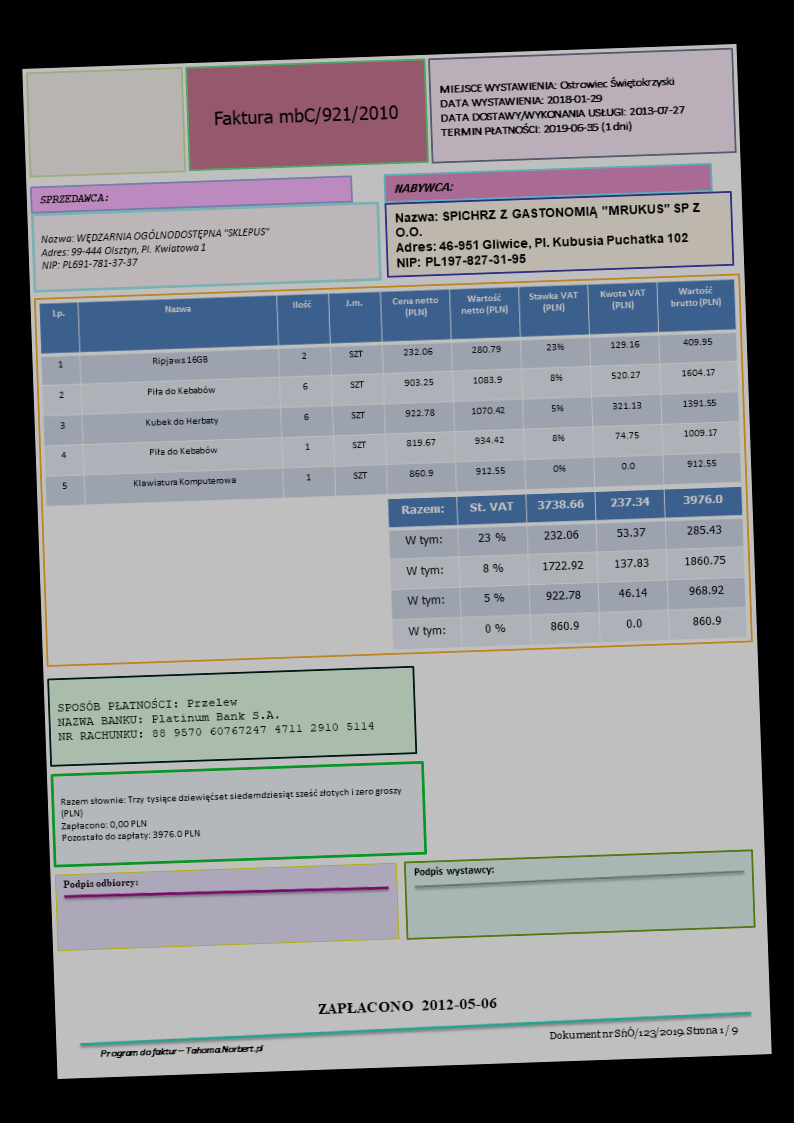Table: (37, 277, 744, 509), (387, 486, 750, 650)
TextBox: (389, 196, 706, 274), (57, 782, 407, 847), (54, 686, 377, 748), (434, 72, 689, 143), (37, 220, 276, 275), (204, 94, 402, 134), (545, 1020, 742, 1048), (314, 993, 503, 1020), (96, 1037, 269, 1061), (409, 861, 499, 882), (59, 872, 141, 894), (34, 187, 109, 208), (390, 175, 455, 199)
